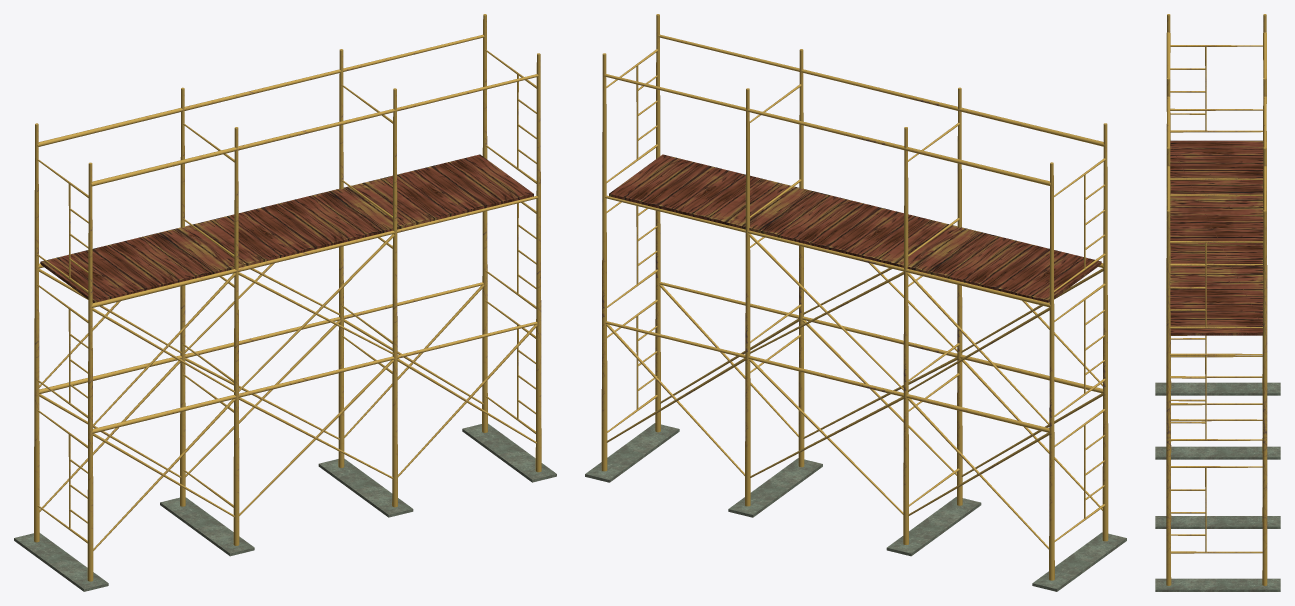
File: SCAFFOLDING.FBX
3 views of the same model, side by side, from view 1: azimuth 30°, elevation 25°; view 2: azimuth 150°, elevation 25°; view 3: azimuth 270°, elevation 25° (orthographic). The views are drawn at different scales.
Parts seen in each view (by area): view 1: Box005, Cylinder022, Cylinder002, Cylinder048, Cylinder023, Cylinder056, Cylinder047, Cylinder046, Cylinder043, Cylinder045, Box002, Box003 (+6 smaller); view 2: Box005, Cylinder003, Cylinder023, Cylinder057, Cylinder022, Cylinder049, Cylinder046, Cylinder047, Cylinder042, Box001, Box003, Box004 (+6 smaller); view 3: Box005, Cylinder003, Cylinder002, Box001, Box003, Box002, Box004, Cylinder047, Cylinder046, Cylinder057, Cylinder056, Cylinder049 (+16 smaller).
Boxes of the visible parts, left/top/right/bottom form: Box005: left=40, top=154, right=533, bottom=302; Cylinder022: left=87, top=162, right=93, bottom=581; Cylinder002: left=535, top=53, right=541, bottom=472; Cylinder048: left=233, top=127, right=239, bottom=545; Cylinder023: left=34, top=123, right=39, bottom=542; Cylinder056: left=392, top=88, right=397, bottom=507; Cylinder047: left=91, top=74, right=538, bottom=186; Cylinder046: left=37, top=34, right=484, bottom=146; Cylinder043: left=92, top=321, right=537, bottom=433; Cylinder045: left=91, top=196, right=538, bottom=307; Box002: left=14, top=533, right=108, bottom=591; Box003: left=160, top=497, right=254, bottom=556; Box005: left=609, top=154, right=1101, bottom=302; Cylinder003: left=601, top=53, right=607, bottom=471; Cylinder023: left=1049, top=162, right=1054, bottom=580; Cylinder057: left=745, top=88, right=750, bottom=506; Cylinder022: left=1102, top=123, right=1108, bottom=541; Cylinder049: left=903, top=127, right=908, bottom=544; Cylinder046: left=604, top=74, right=1050, bottom=185; Cylinder047: left=658, top=34, right=1104, bottom=146; Cylinder042: left=605, top=321, right=1049, bottom=432; Box001: left=585, top=423, right=679, bottom=482; Box003: left=886, top=496, right=981, bottom=556; Box004: left=728, top=458, right=822, bottom=517; Box005: left=1170, top=140, right=1263, bottom=335; Cylinder003: left=1262, top=210, right=1267, bottom=585; Cylinder002: left=1166, top=210, right=1171, bottom=585; Box001: left=1155, top=578, right=1280, bottom=591; Box003: left=1155, top=446, right=1280, bottom=459; Box002: left=1155, top=382, right=1280, bottom=395; Box004: left=1155, top=516, right=1280, bottom=528; Cylinder047: left=1166, top=32, right=1170, bottom=210; Cylinder046: left=1263, top=32, right=1266, bottom=210; Cylinder057: left=1262, top=147, right=1267, bottom=521; Cylinder056: left=1166, top=147, right=1171, bottom=521; Cylinder049: left=1262, top=78, right=1267, bottom=452.
Size of the model in its own units: 381 by 323 by 97.6.
